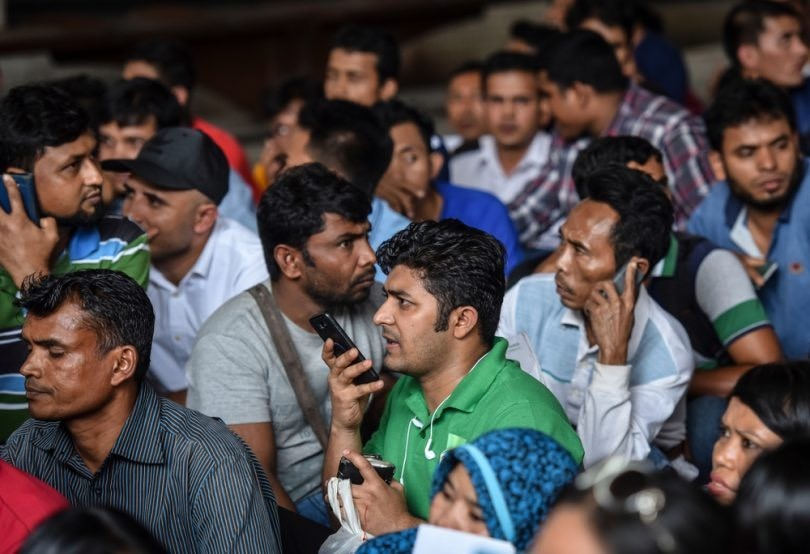without_mask: (18, 313, 109, 424), (705, 396, 775, 504), (121, 179, 208, 259), (370, 275, 435, 381), (50, 135, 110, 225), (551, 219, 605, 315), (321, 225, 378, 314), (729, 131, 794, 201), (379, 145, 427, 209), (488, 89, 535, 147), (771, 30, 808, 84)
